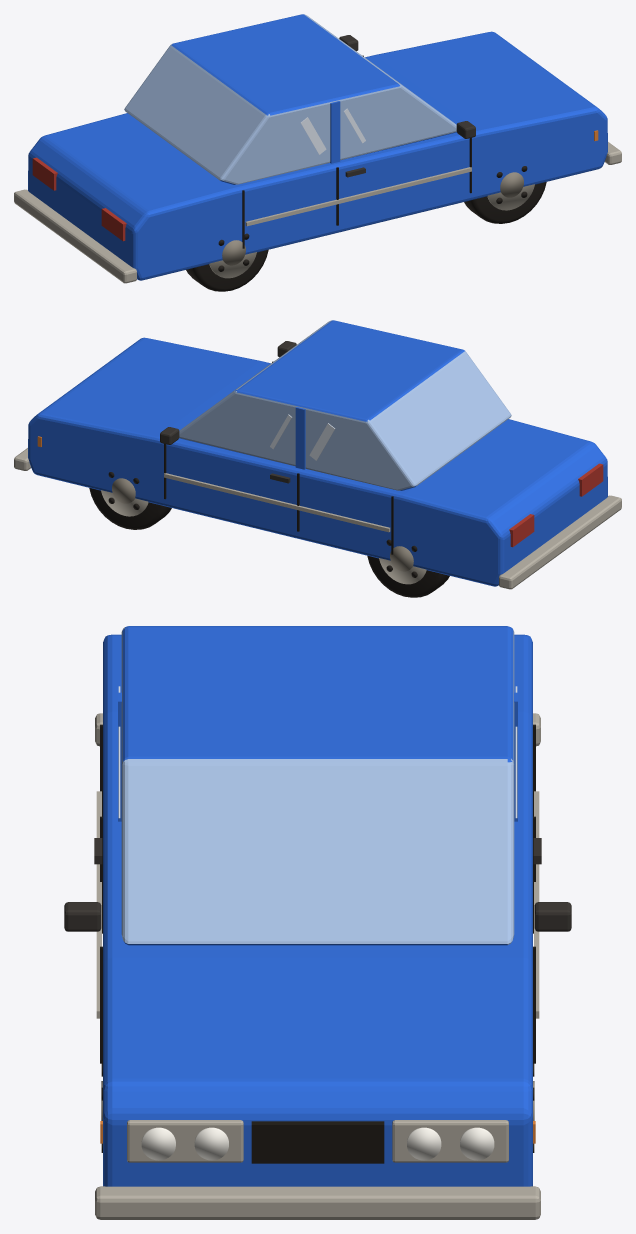
The model's file is VH_Seven.glb.
3 views of the same model, one above another, from view 1: azimuth 30°, elevation 25°; view 2: azimuth 150°, elevation 25°; view 3: azimuth 270°, elevation 25° (orthographic). The views are drawn at different scales.
Parts seen in each view (by area): view 1: body; view 2: body; view 3: body.
Boxes of the visible parts, left/top/right/bottom form: body: left=14, top=14, right=621, bottom=291; body: left=14, top=320, right=621, bottom=597; body: left=64, top=626, right=571, bottom=1219.
Size of the model in its own units: 4.34 by 1.38 by 1.91.
